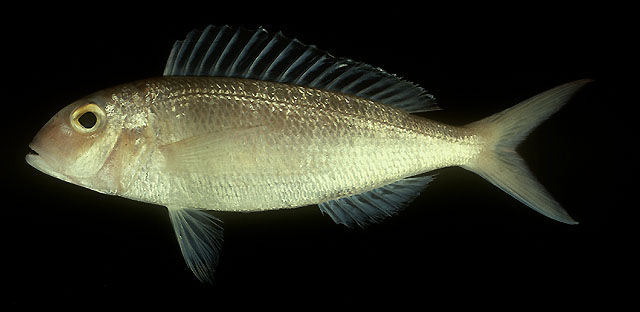fish: (25, 25, 592, 282)
